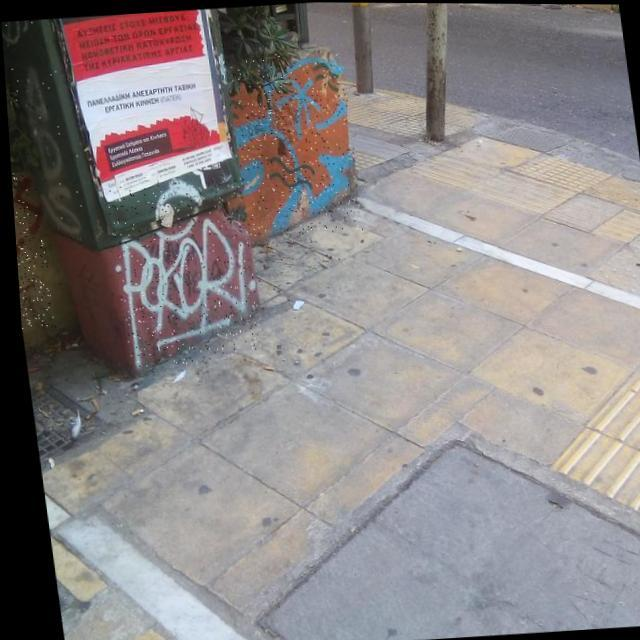-: (102, 175, 260, 368), (221, 48, 362, 237), (9, 63, 83, 237), (9, 171, 51, 330), (1, 18, 42, 45)
